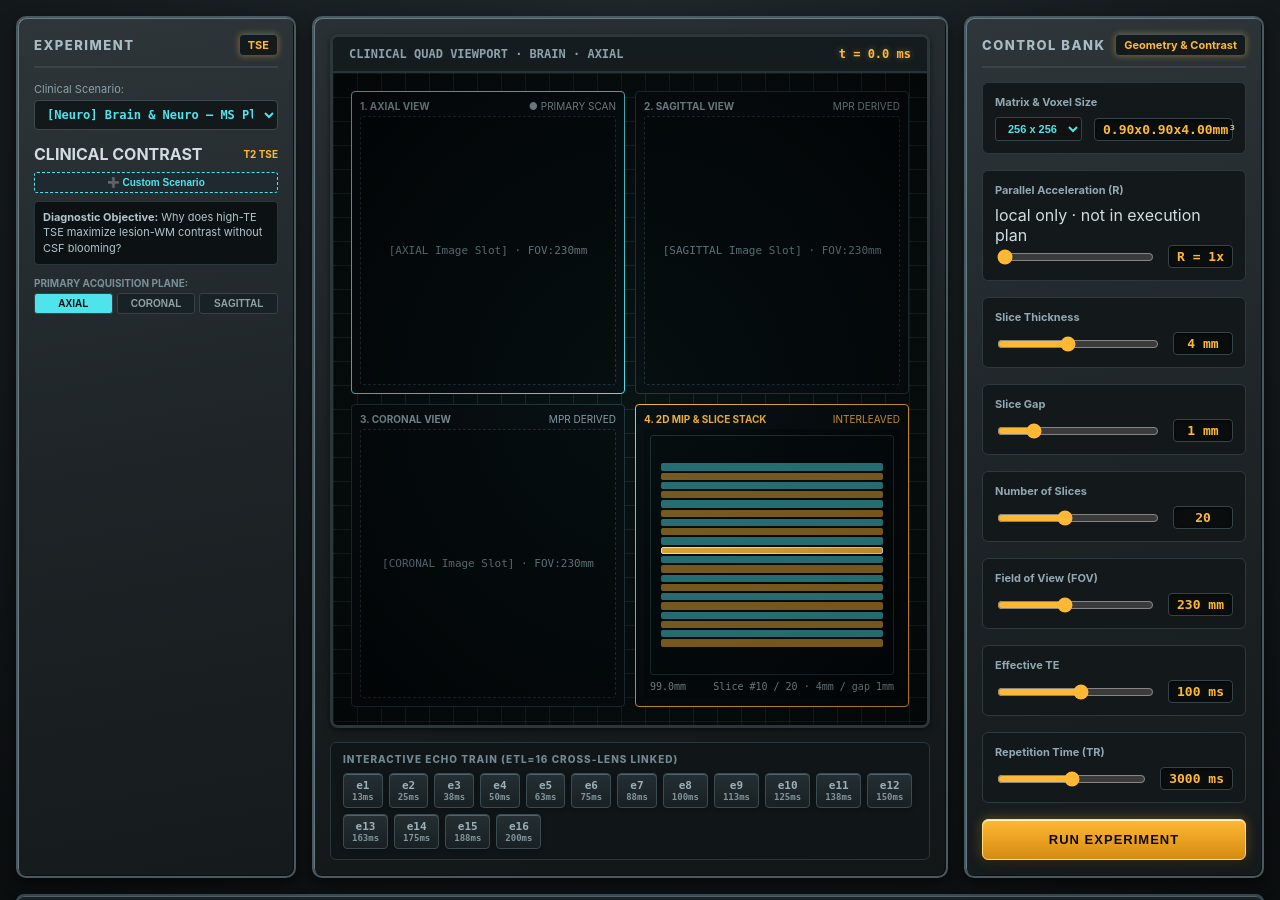
Test: Web Vertical Slice: Taxonomy, Dual Persona, Single Large Display & Retromorphism › supports Clinical Scenario switching across Brain, Cardiac, Abdomen, MSK, Angio
The image size is (1280, 900).
Select "[Body] Abdominal — Liver Steatosis & Dixon Fat Sep" in the dropdown with test id "scenario-dropdown": (156, 115) [34,100,278,130]
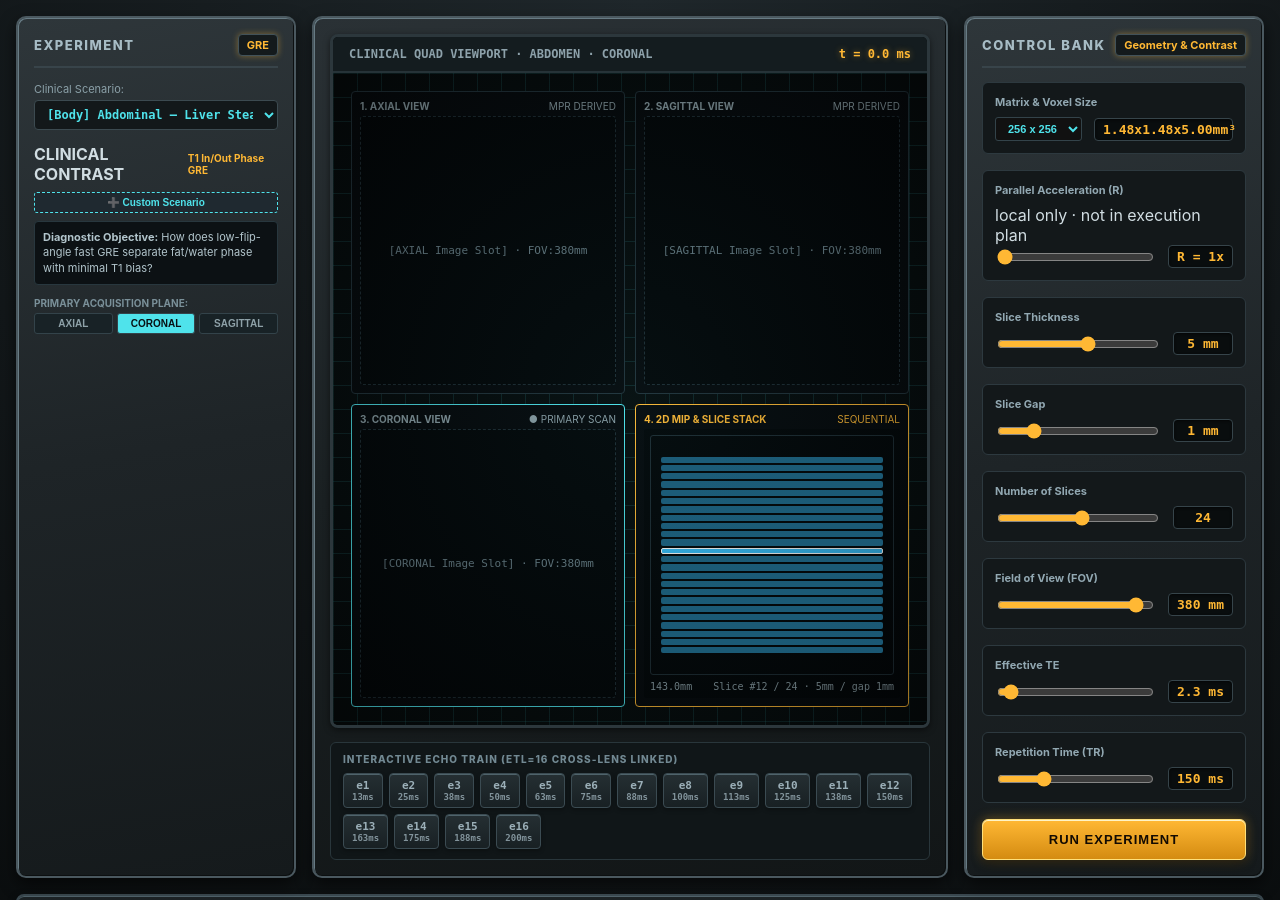
Expected: the text "separate fat/water phase" is shown, [43,230,261,275]
